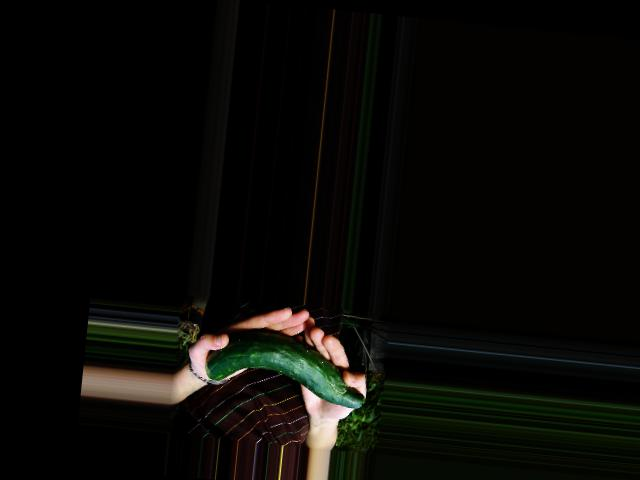cucumber: (202, 326, 369, 409)
